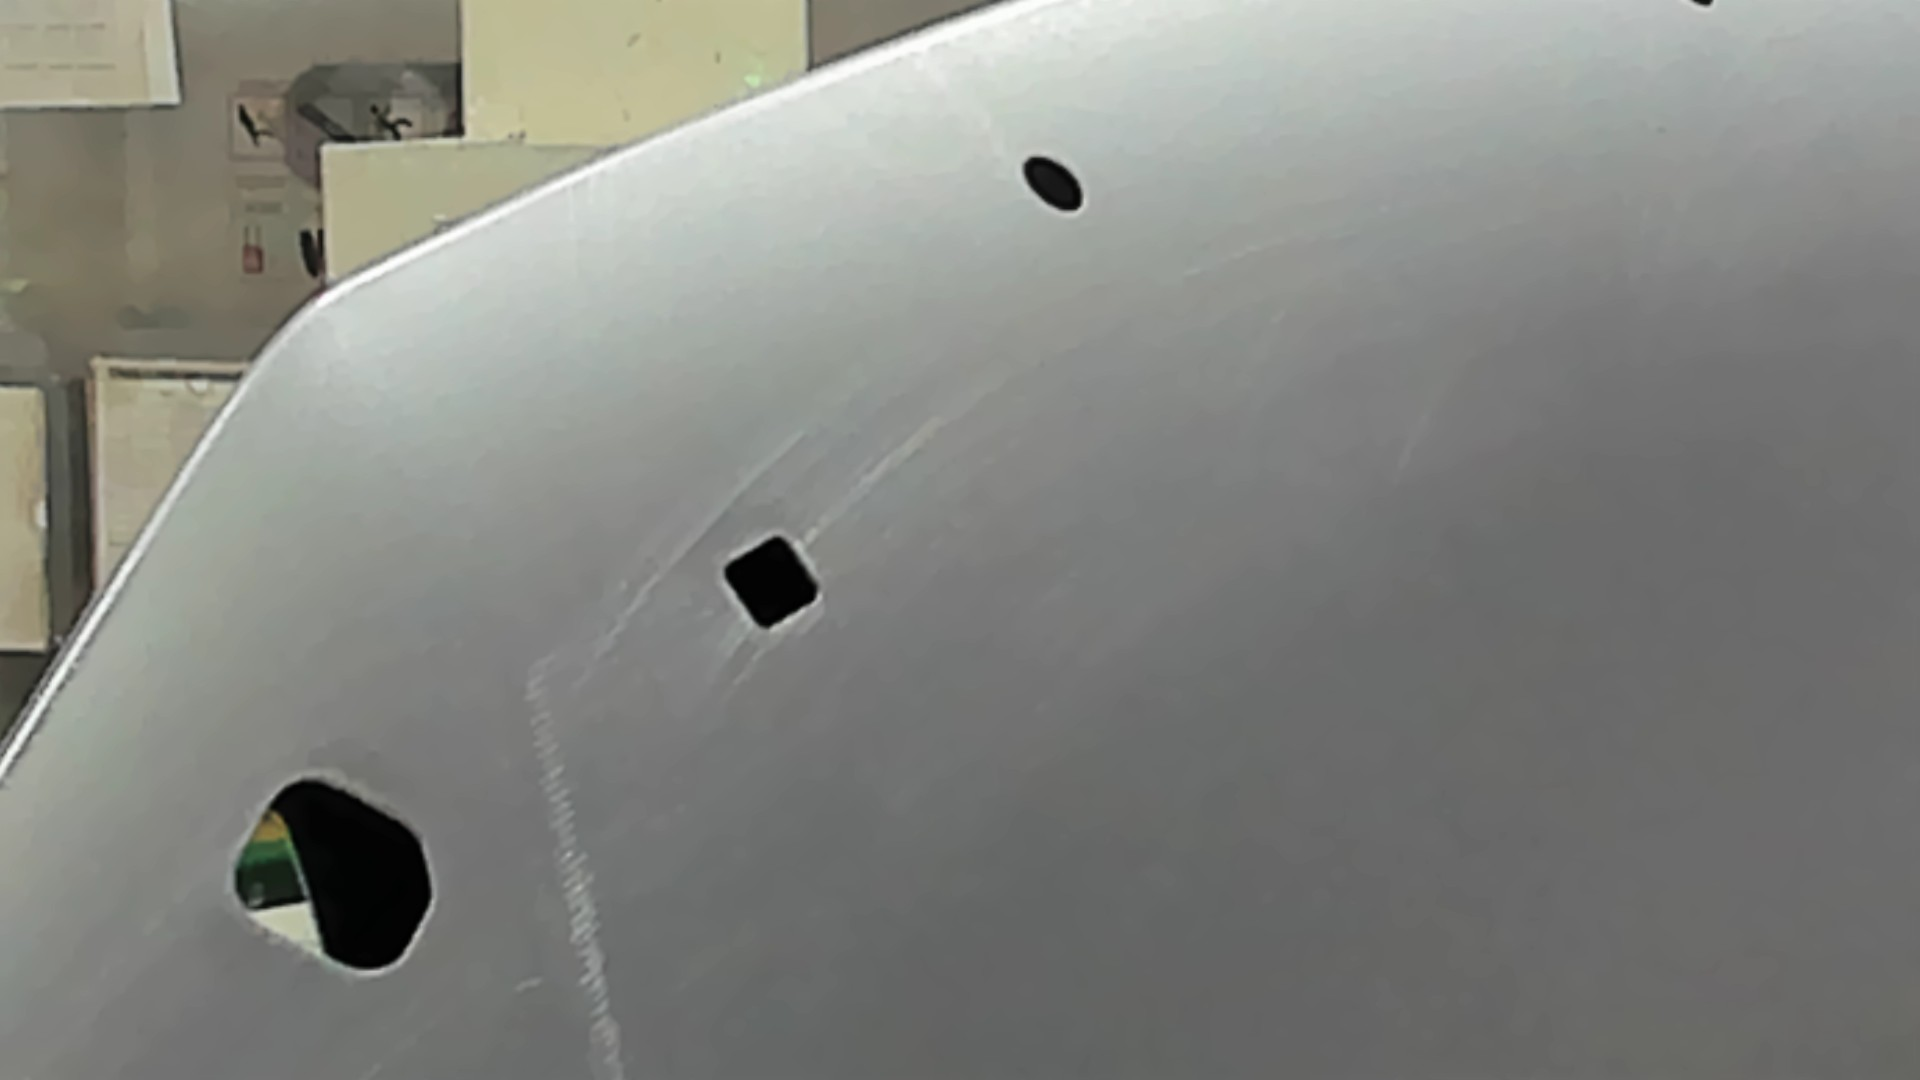chico: (1009, 141, 1095, 231)
grande: (225, 765, 447, 988)
mediano: (702, 520, 832, 646)
